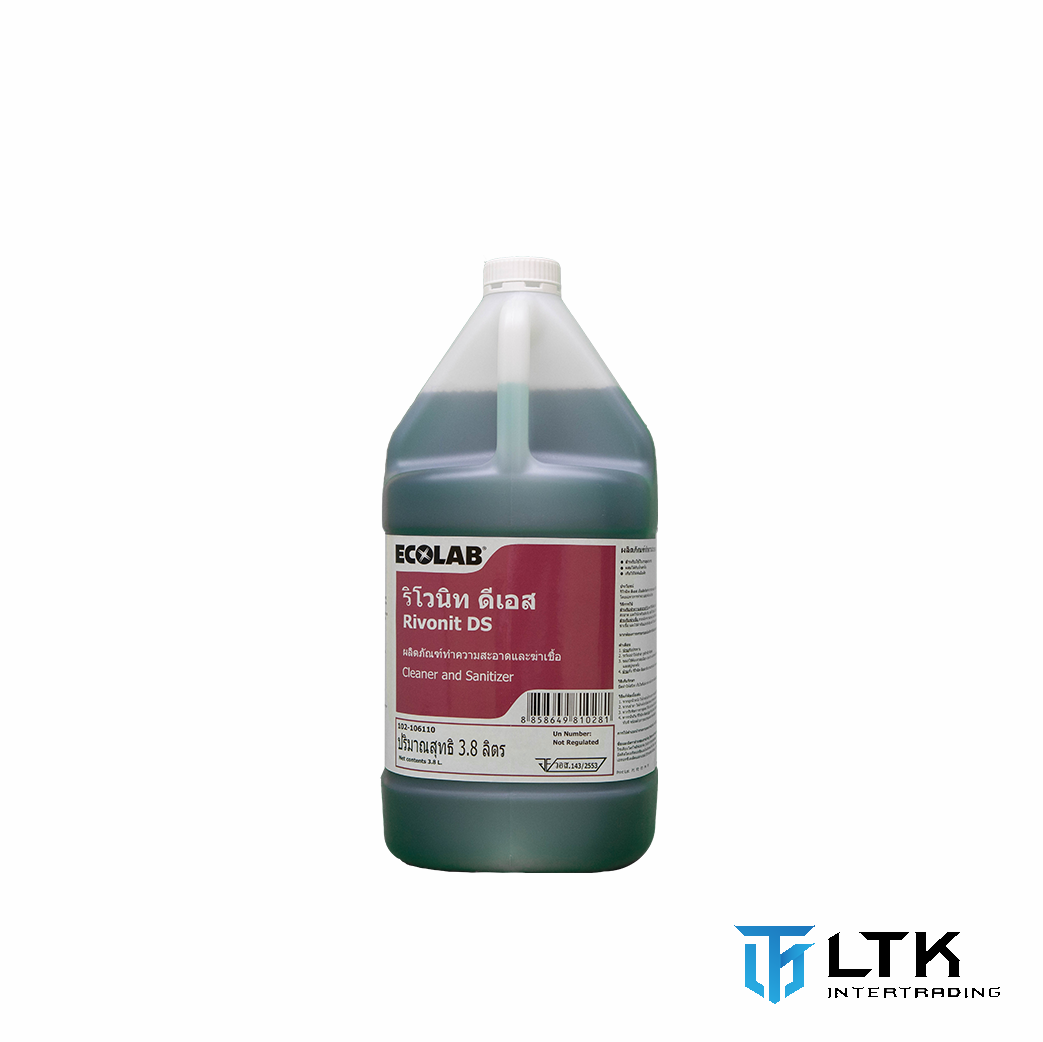Cleaning_solution: (376, 252, 665, 882)
